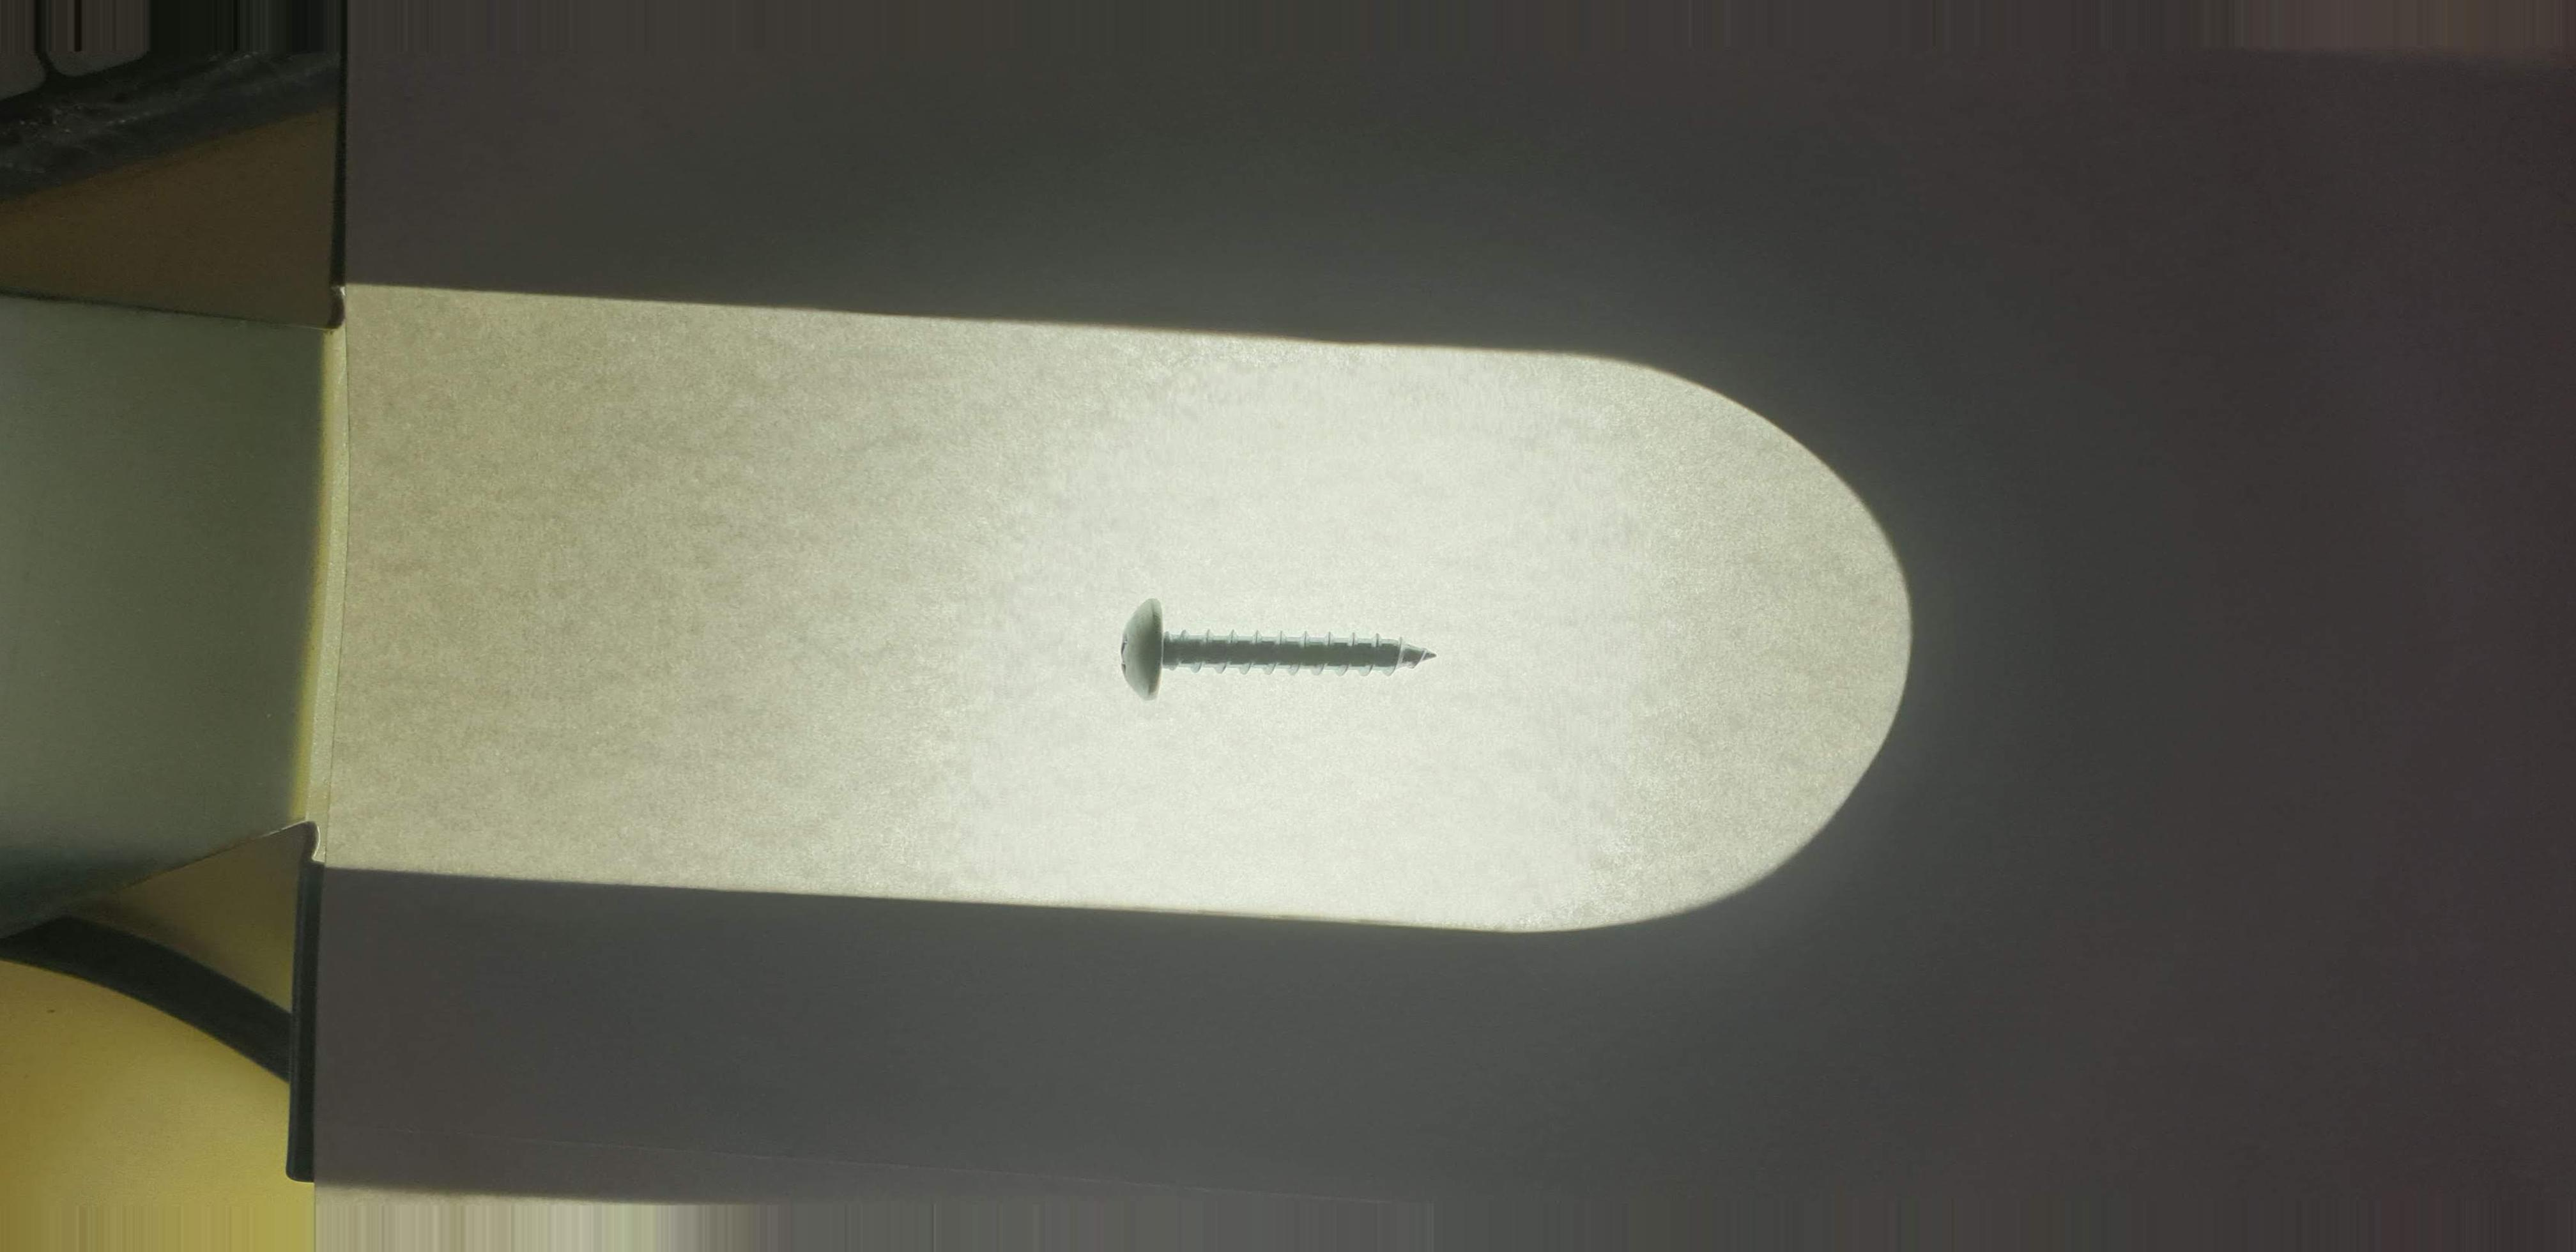S002: (1097, 587, 1464, 707)
